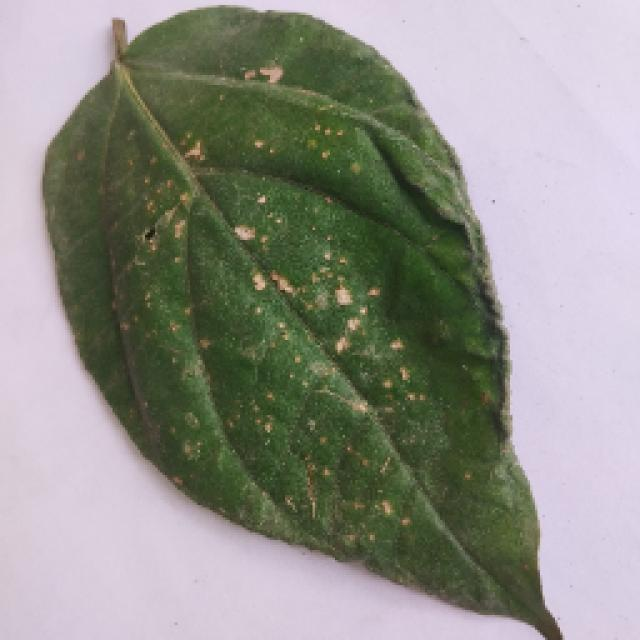pollu-disease: (43, 8, 555, 628)
